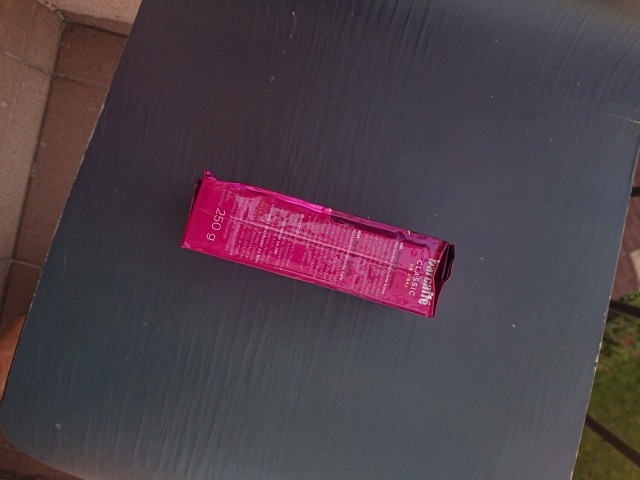Barcaffe Classic Original 225g: (178, 163, 457, 323)
